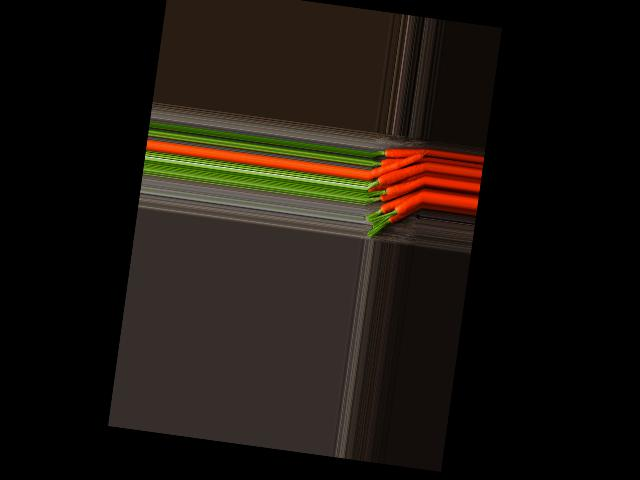carrot: (371, 188, 422, 218)
